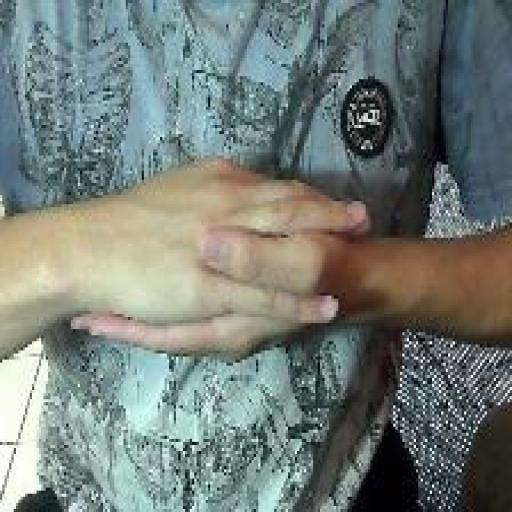Saru -monkey-: (60, 151, 377, 373)
